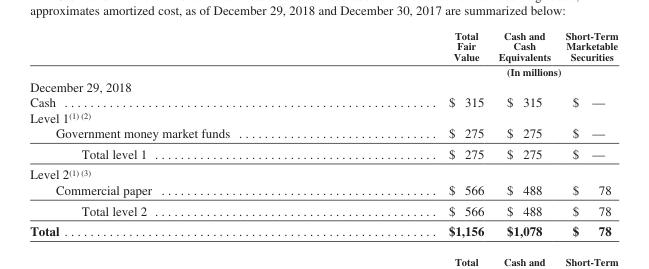table: (29, 29, 617, 238)
table column: (29, 29, 338, 238), (338, 29, 490, 238), (490, 29, 557, 238), (557, 29, 617, 238)
table column header: (29, 29, 617, 78)
table projected row header: (29, 163, 617, 181), (29, 78, 617, 93), (29, 109, 617, 124)
table row: (29, 29, 617, 63), (29, 199, 617, 220), (29, 143, 617, 163), (29, 124, 617, 143), (29, 163, 617, 181), (29, 181, 617, 199), (29, 220, 617, 238), (29, 93, 617, 109), (29, 63, 617, 78), (29, 78, 617, 93), (29, 109, 617, 124)
table spanning cell: (338, 63, 617, 78)
